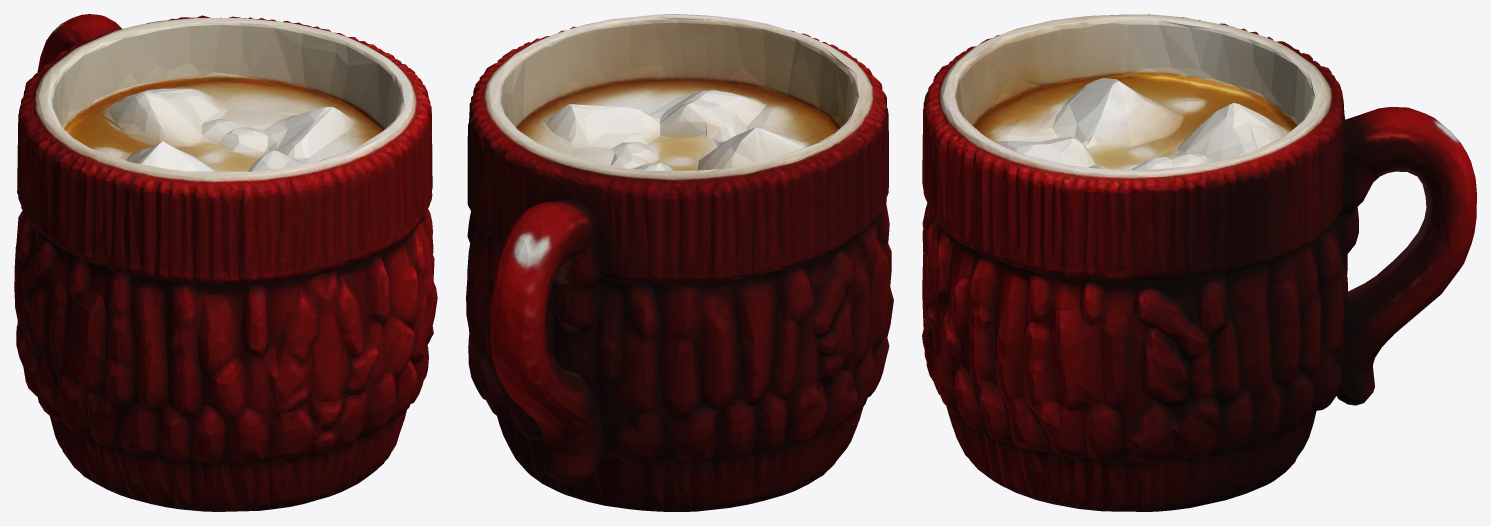
3 views of the same model, side by side, from view 1: azimuth 30°, elevation 25°; view 2: azimuth 150°, elevation 25°; view 3: azimuth 270°, elevation 25° (orthographic).
Visible parts, largest first — view 1: world; view 2: world; view 3: world.
Boxes of the visible parts, box(x1,y1,x2,y2) form: world: box(14, 14, 437, 511); world: box(466, 14, 893, 511); world: box(922, 14, 1476, 511).
Bounding box in the file's own units: 0.7589 × 0.6994 × 0.9989.
1 material, 1 textured.
